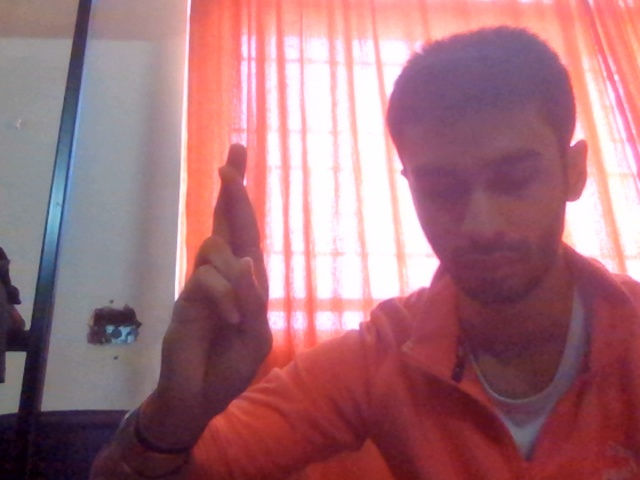R: (129, 129, 326, 455)
